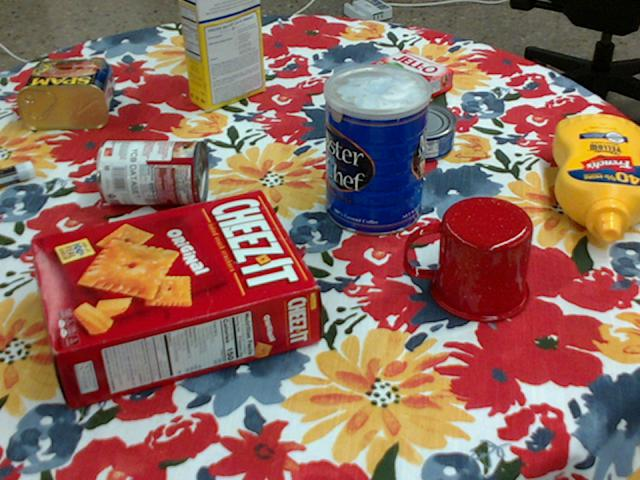cracker_box: (30, 191, 318, 410)
gelatin_box: (364, 51, 452, 108)
large_marker: (0, 160, 33, 185)
master_chef_can: (323, 64, 430, 237)
mug: (404, 196, 533, 323)
mustard_bottle: (551, 113, 639, 241)
potted_meat_can: (15, 58, 113, 129)
sugar_box: (179, 0, 264, 109)
tomato_soup_can: (95, 139, 205, 205)
tuna_fish_can: (381, 102, 456, 162)
